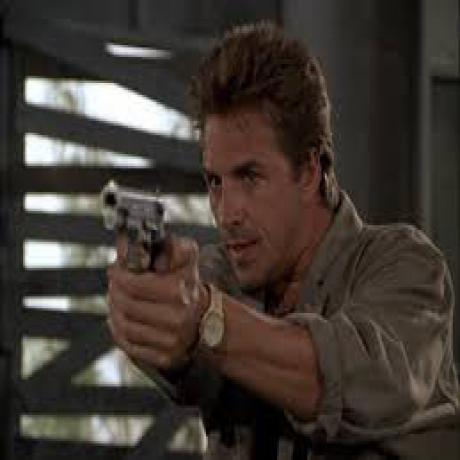Guns: (106, 175, 176, 274)
